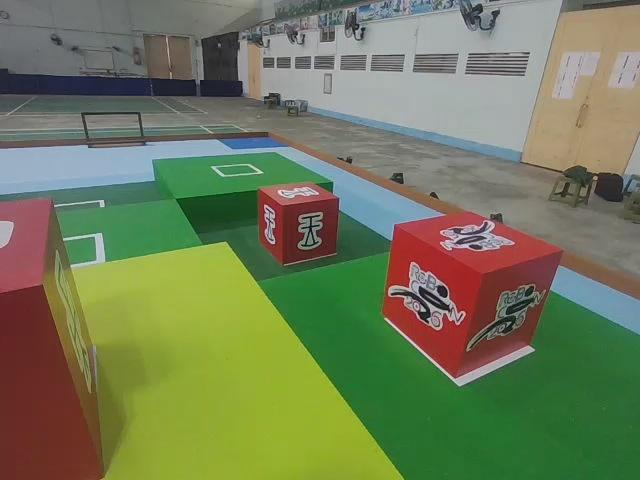R1: (380, 207, 564, 382)
R2 Real: (253, 180, 342, 267)
